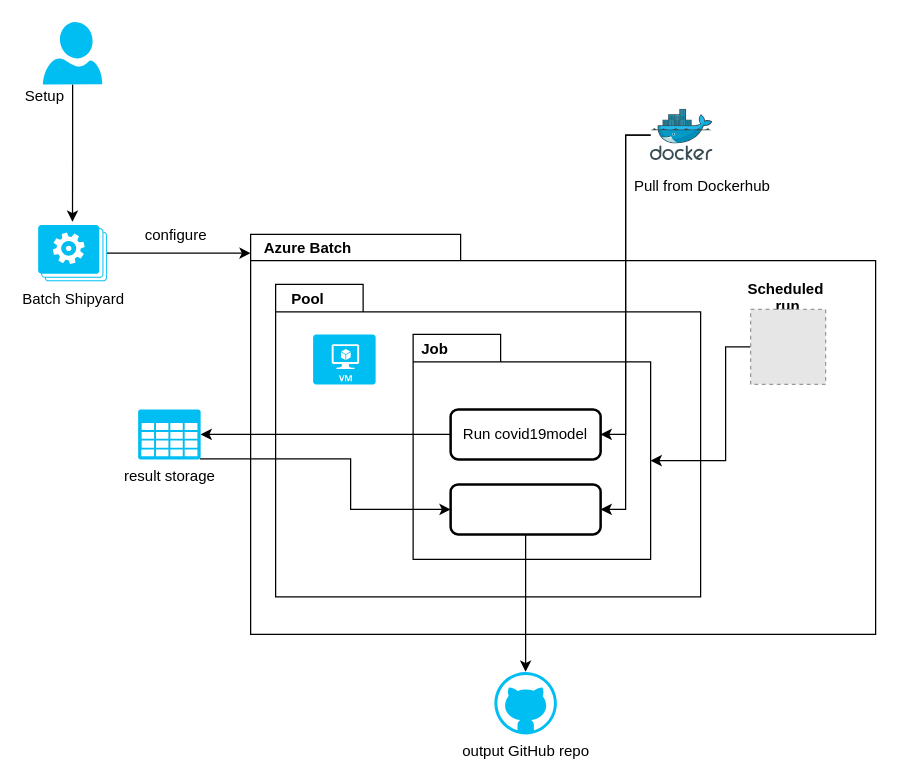
This 909x781 diagram has some shape labels left out. Grey dashed boxes stand in for pictures. Here are the shapes that lost their labels. From the top down, the centre of each, then its label:
At (343,359): "Standard_F8".
At (525,508): "Upload to GitHub".
